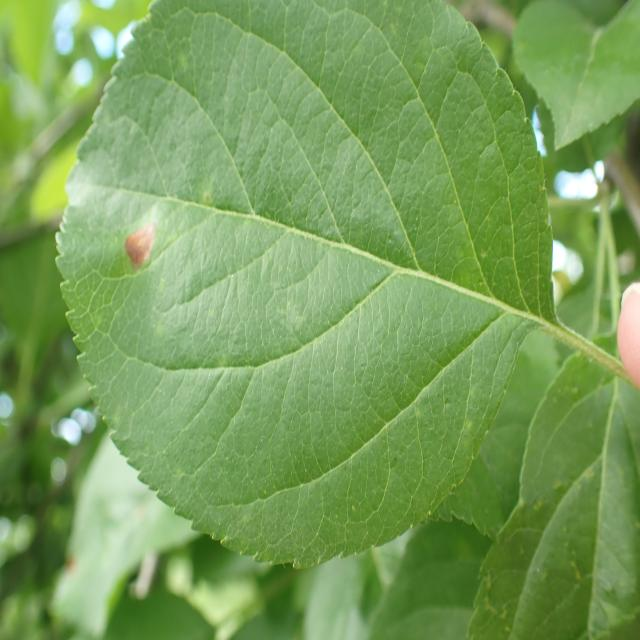Black Rot: (125, 192, 174, 305)
